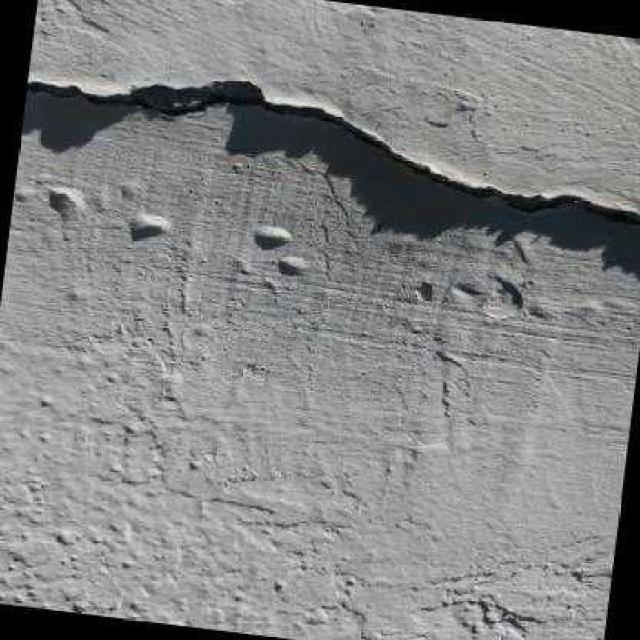D00: (25, 75, 640, 224)
